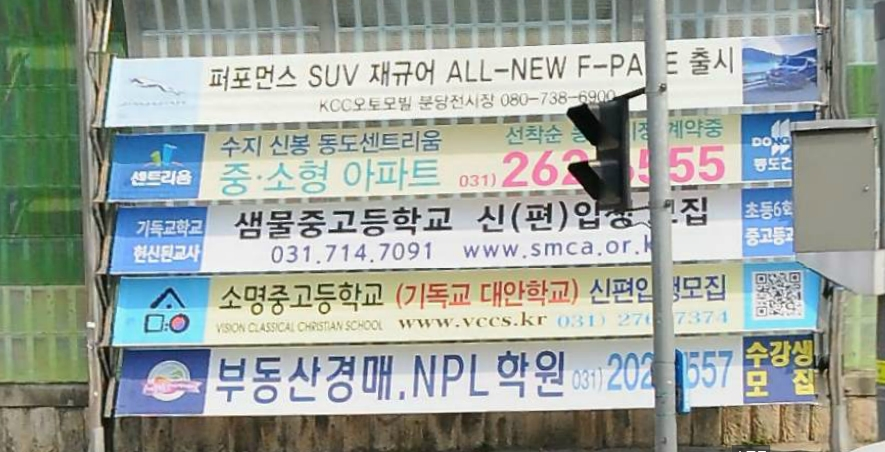banner: (92, 34, 832, 131), (90, 114, 790, 212), (108, 258, 829, 352), (107, 187, 794, 277), (106, 335, 834, 419)
